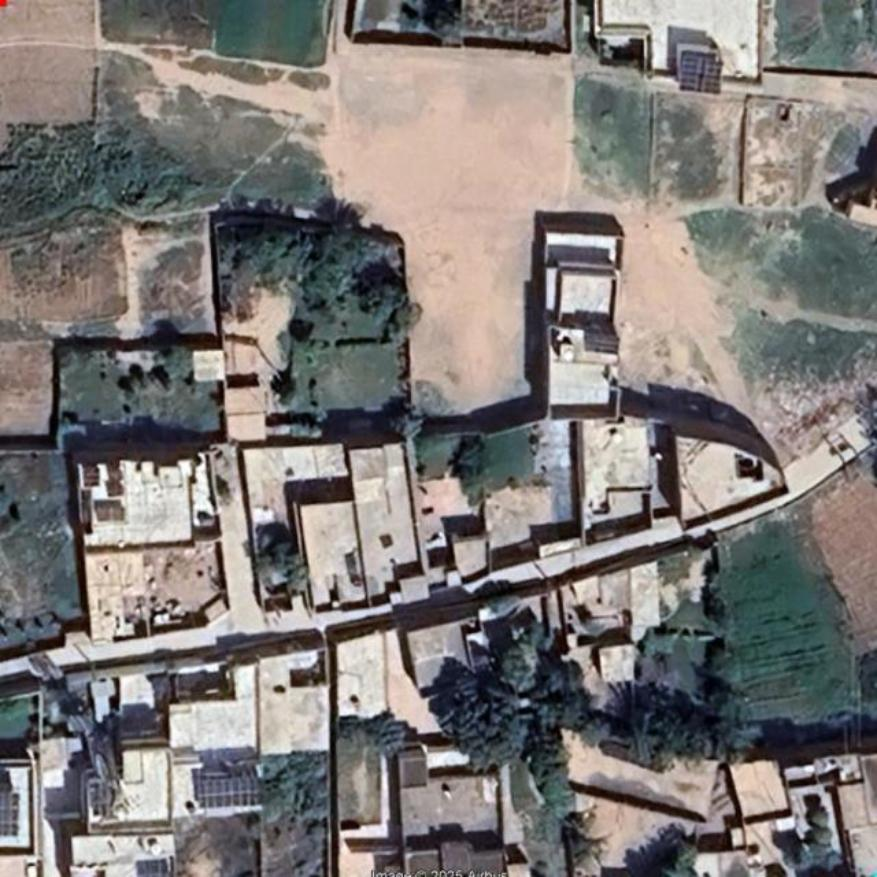Solarpanel: (200, 778, 265, 810), (681, 53, 720, 90), (0, 795, 19, 838)
